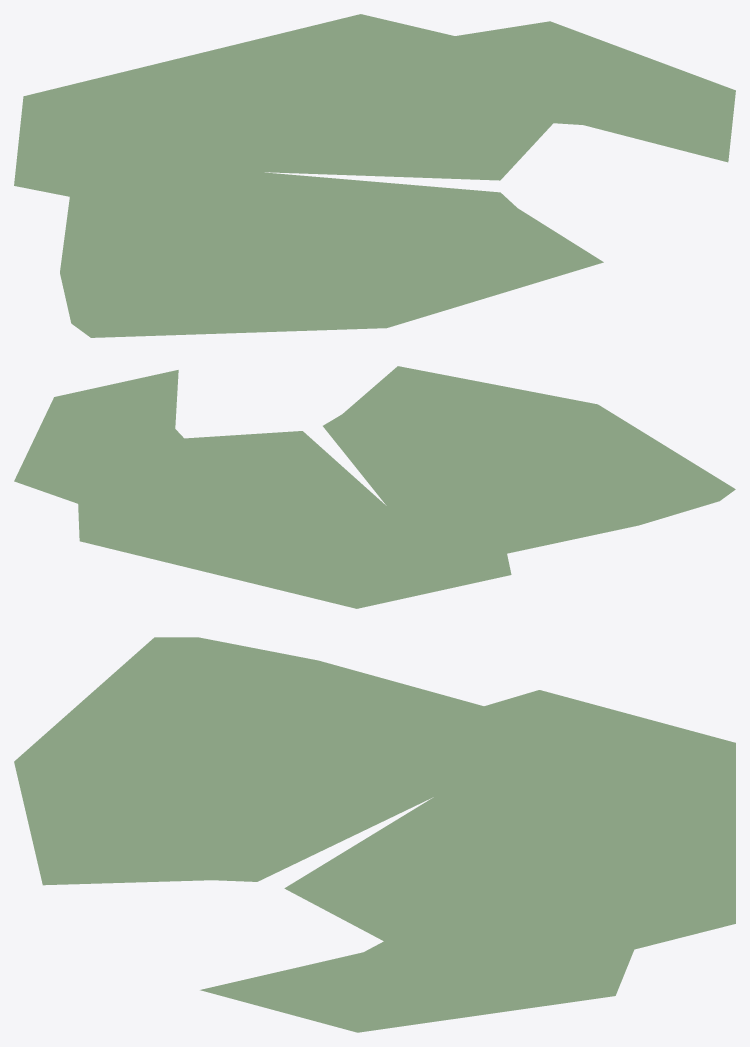
The model's file is 131_77_mid.glb.
3 views of the same model, one above another, from view 1: azimuth 30°, elevation 25°; view 2: azimuth 150°, elevation 25°; view 3: azimuth 270°, elevation 25° (orthographic). The views are drawn at different scales.
Size of the model in its own units: 424 by 0 by 327.
